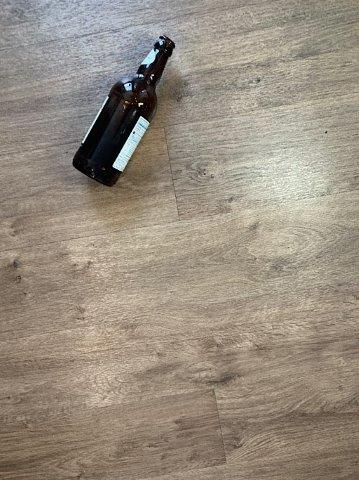botolkaca: (74, 37, 176, 186)
